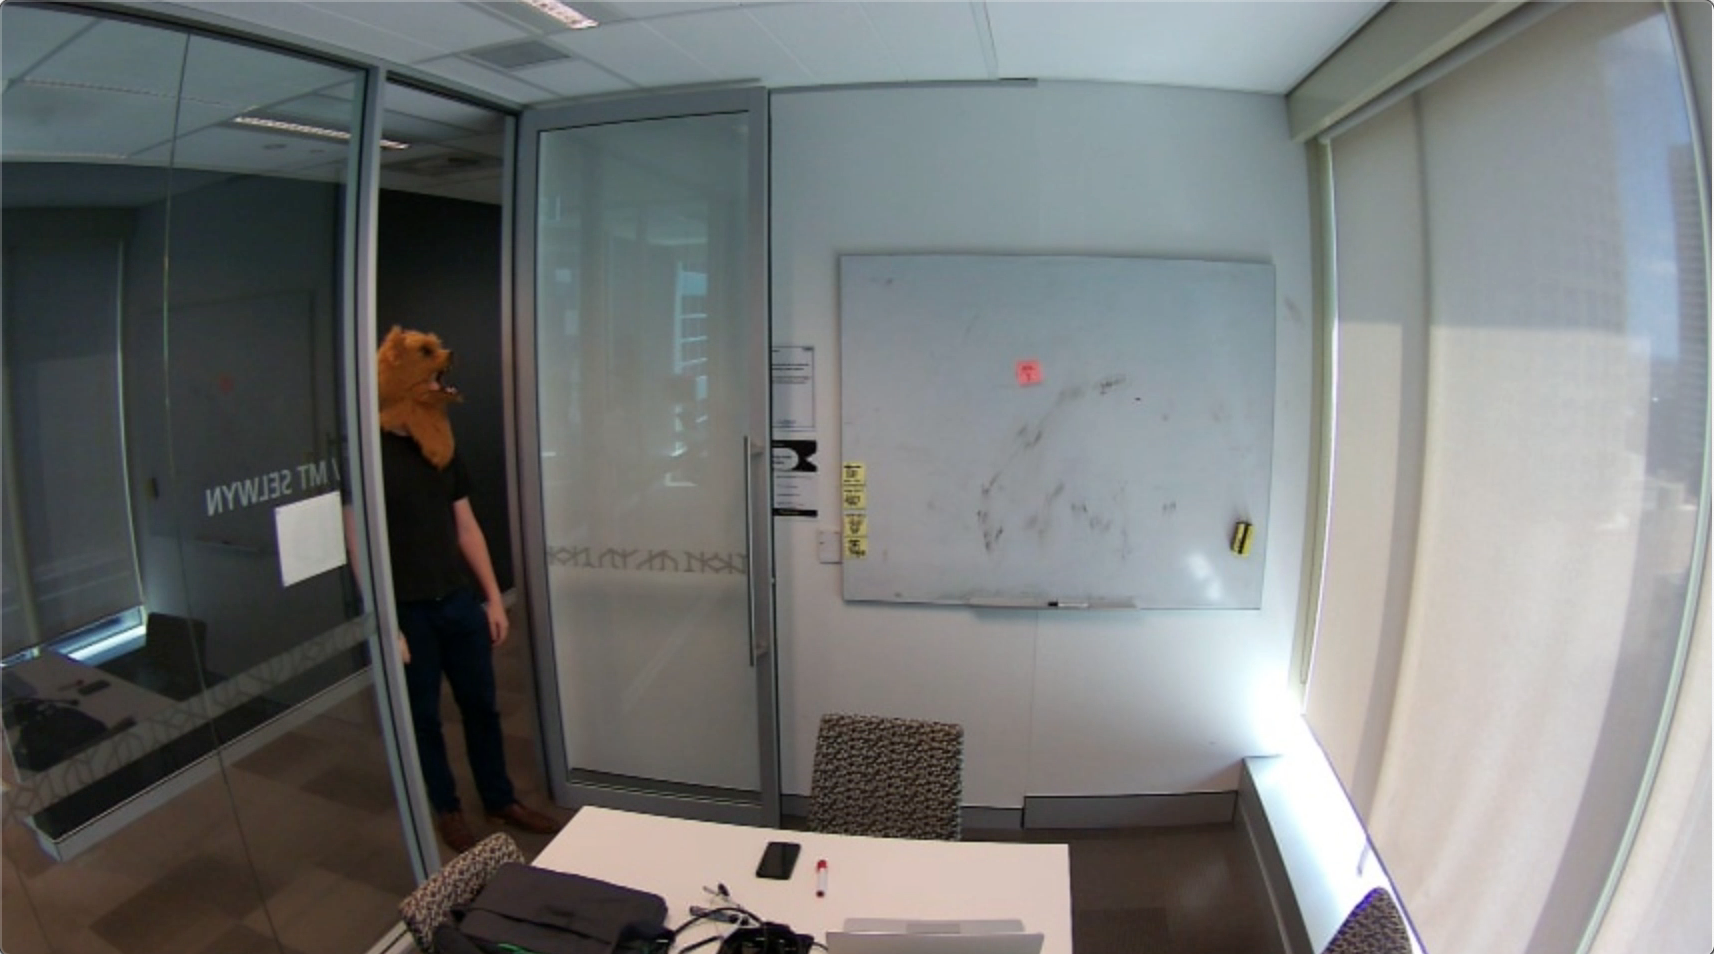Bear: (377, 324, 466, 426)
